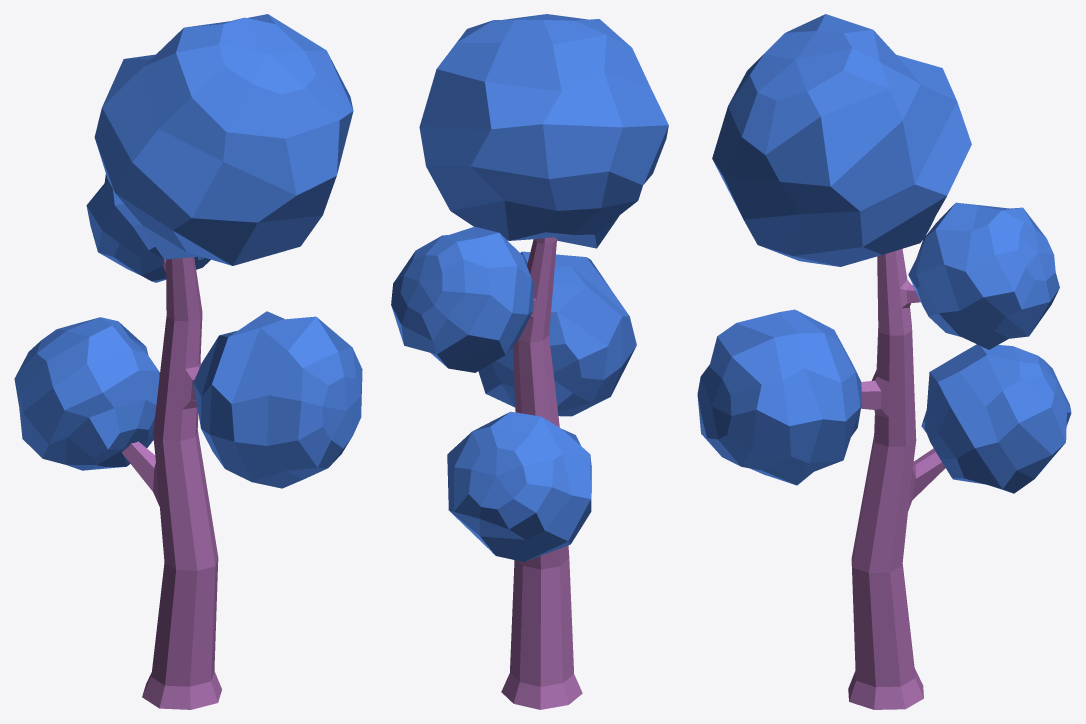
Rendered from Tree_stem_01.030.fbx.
The picture shows the model from 3 angles, left to right: view 1: azimuth 30°, elevation 25°; view 2: azimuth 150°, elevation 25°; view 3: azimuth 270°, elevation 25°; orthographic projection. The views are drawn at different scales.
Parts seen in each view (by area): view 1: Tree_stem_01.030; view 2: Tree_stem_01.030; view 3: Tree_stem_01.030.
Part boxes in pixels (x1,y1,x2,y2): Tree_stem_01.030: (14, 14, 362, 709); Tree_stem_01.030: (391, 14, 668, 709); Tree_stem_01.030: (697, 14, 1071, 709).
Size of the model in its own units: 144 by 380 by 192.
